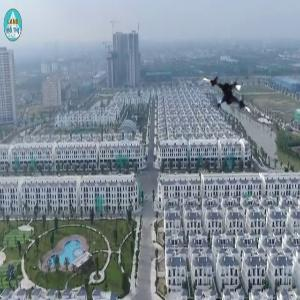drone: (193, 71, 258, 136)
